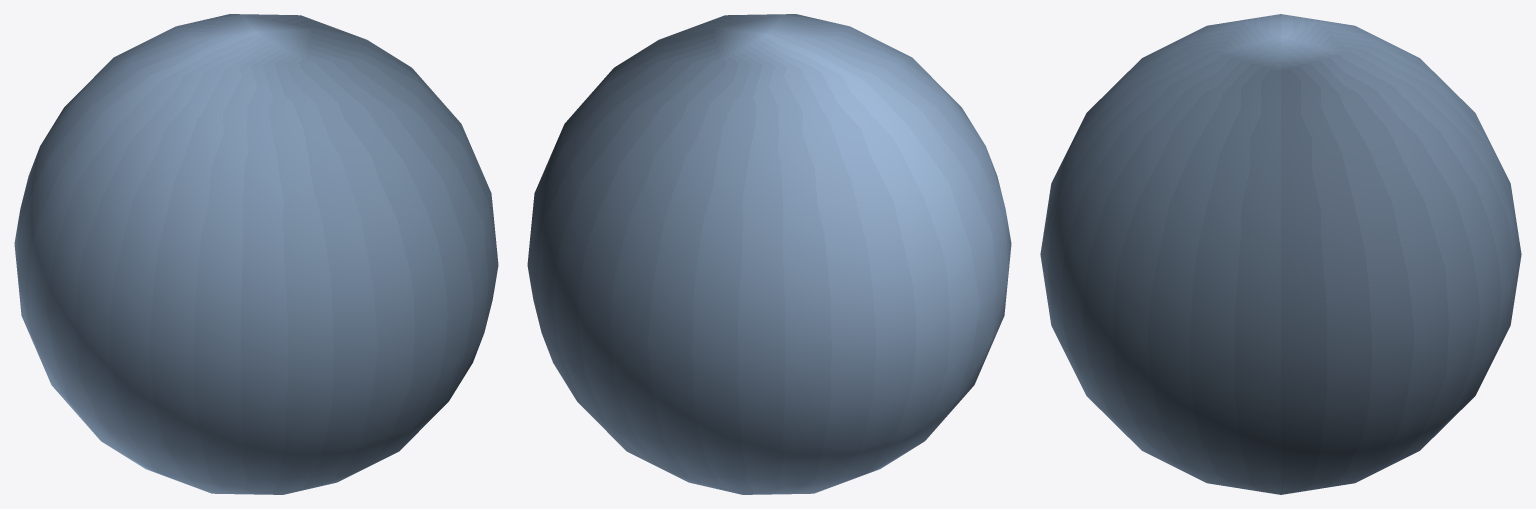
3 renders of one model, left to right at view 1: azimuth 30°, elevation 25°; view 2: azimuth 150°, elevation 25°; view 3: azimuth 270°, elevation 25°, orthographic.
Parts seen in each view (by area): view 1: skpA1E5; view 2: skpA1E5; view 3: skpA1E5.
Part boxes in pixels (x1,y1,x2,y2): skpA1E5: [14, 14, 498, 494]; skpA1E5: [527, 14, 1011, 494]; skpA1E5: [1040, 14, 1521, 494].
Size of the model in its own units: 39.37 by 39.37 by 39.37.
Materials: 1 (1 with a texture image).
